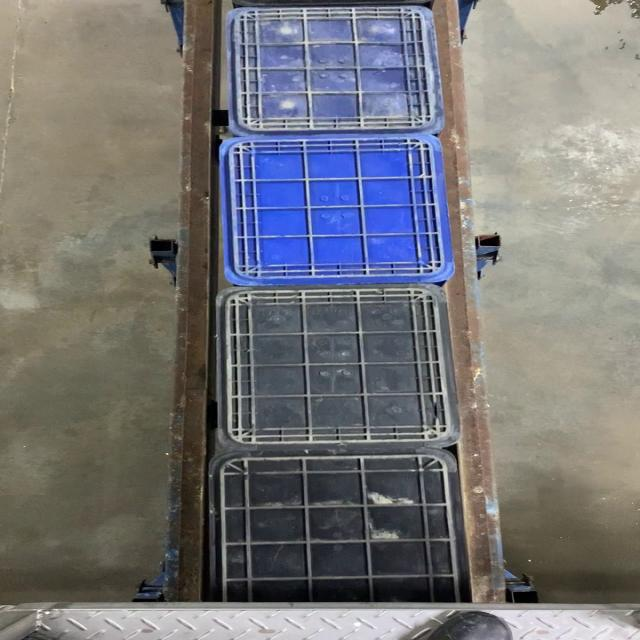Box: (215, 289, 461, 452), (218, 138, 455, 290), (226, 3, 445, 138)
